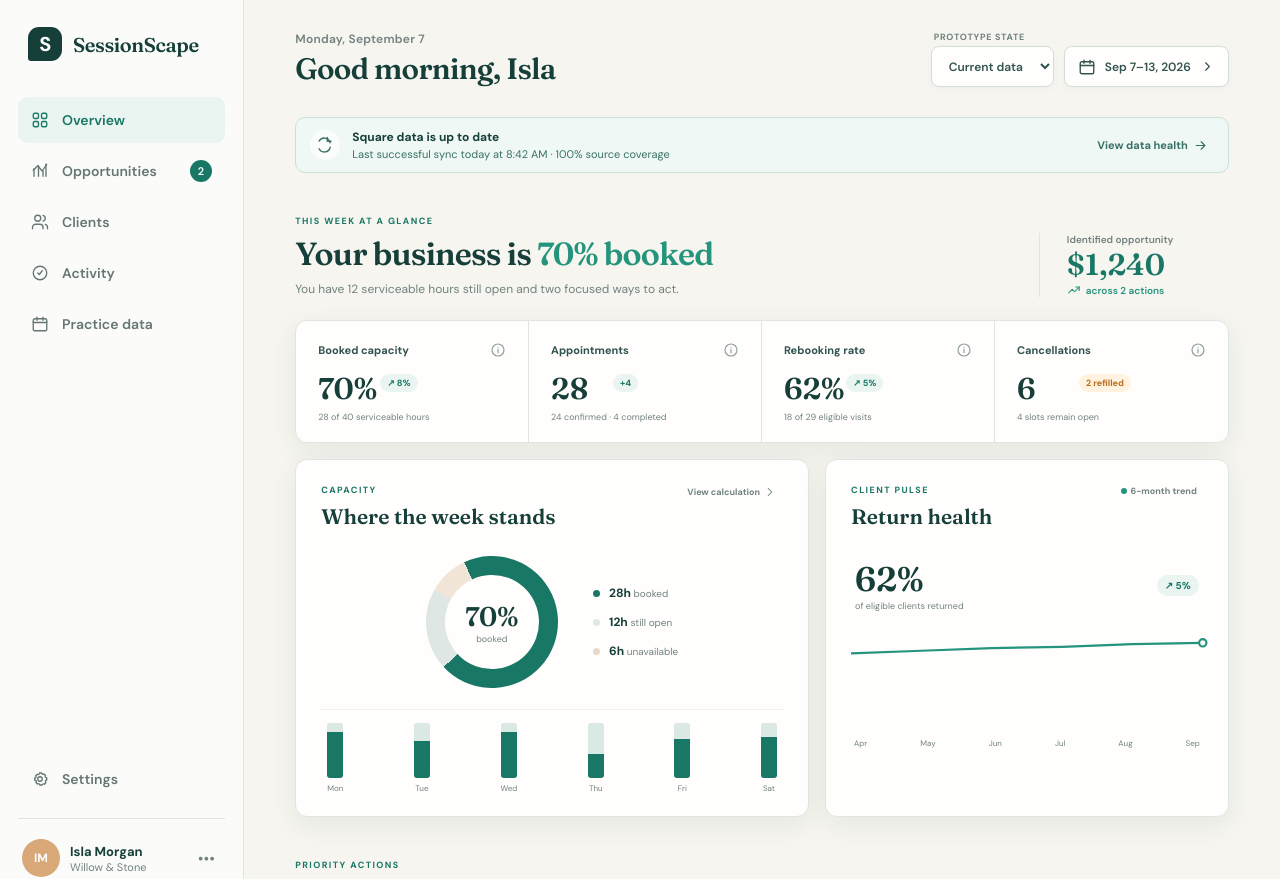
Test: opens a separate empty owner practice workspace with a truthful source label
Click the link "Practice data": [92, 324] box [31,315,153,333]
(page scrolled)
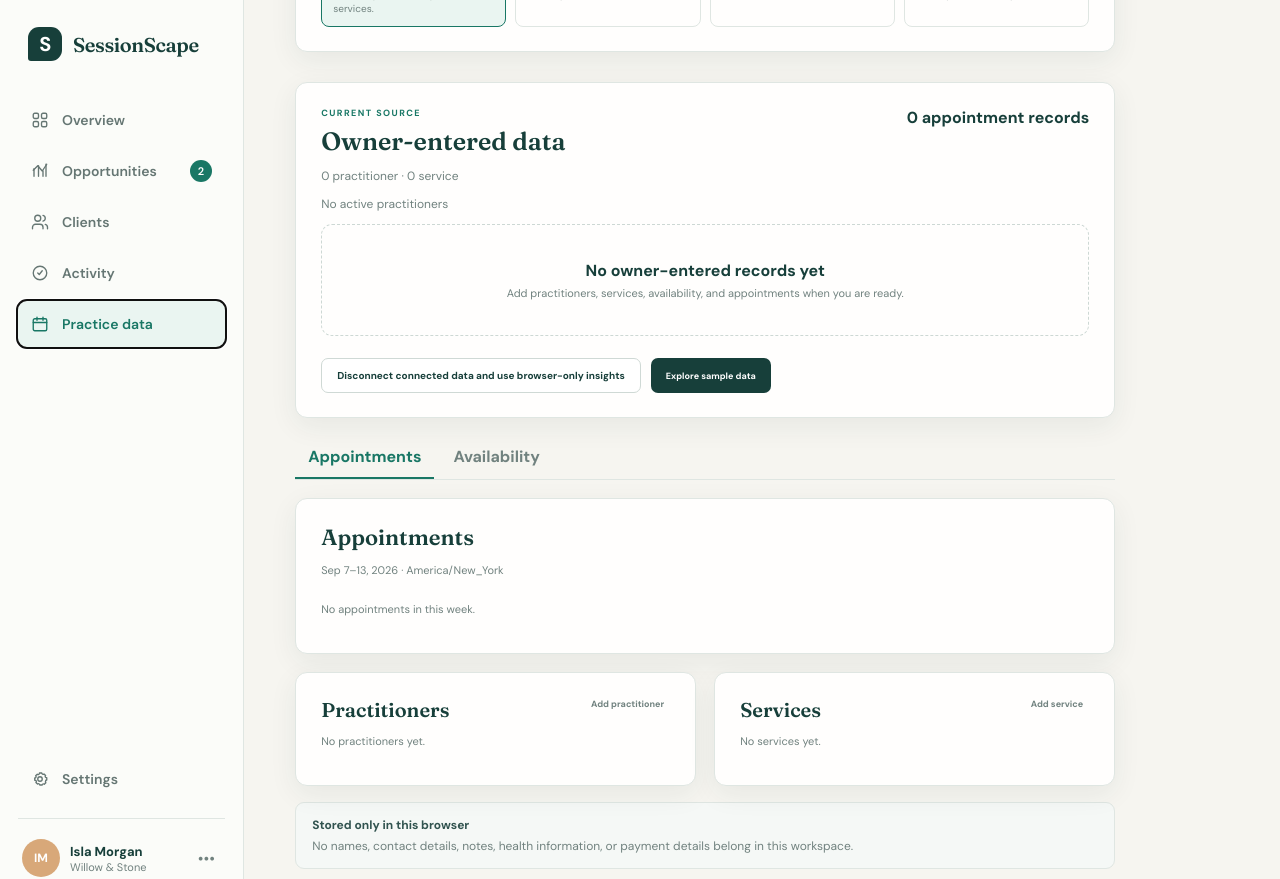
expect the heading "Owner-entered data" is shown: met, box [321,126,566,156]
expect the text "No owner-entered records yet" is shown: met, box [586,260,825,281]
expect the text "Stored only in this browser" is shown: met, box [312,817,469,833]
